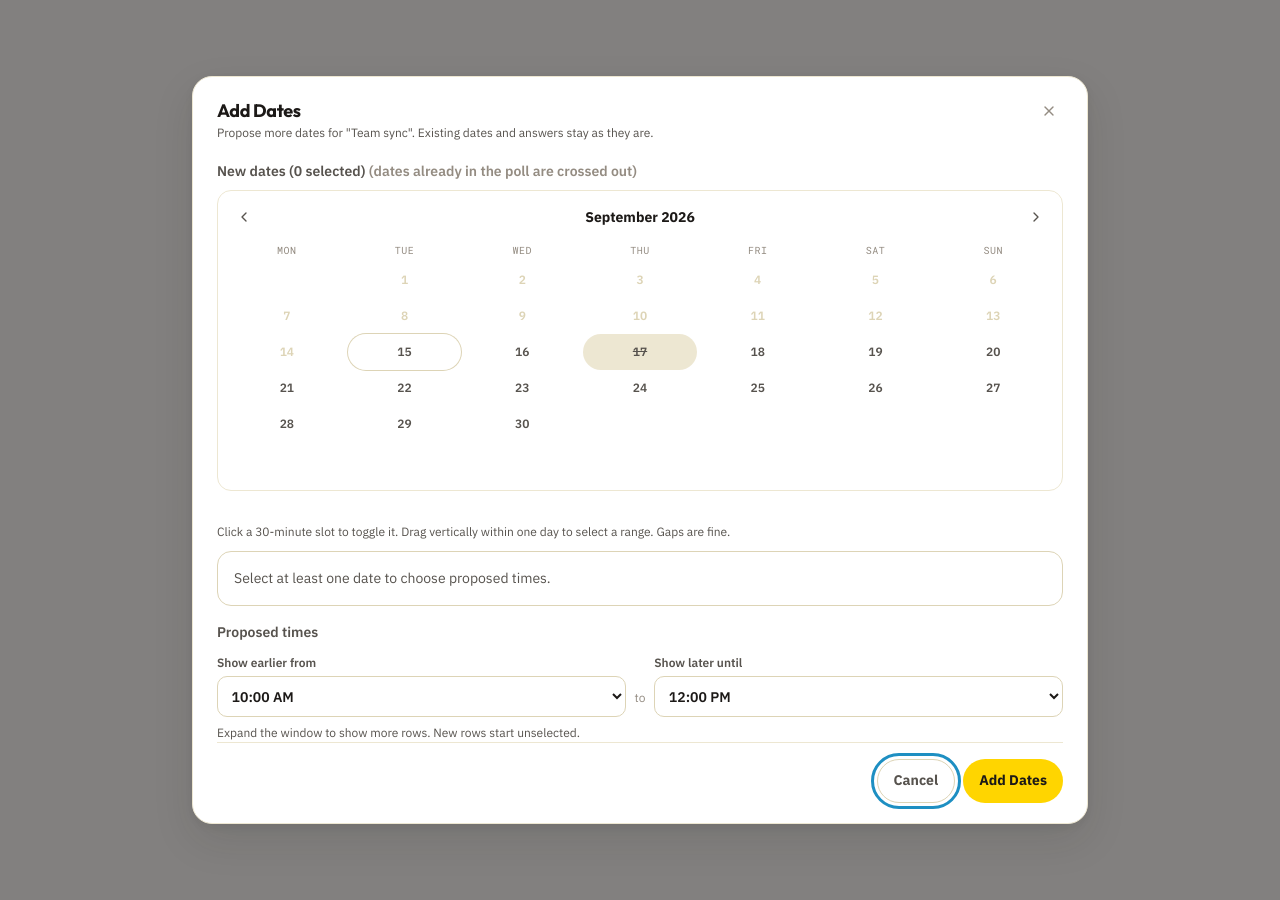
Test: ExtendPollModal › requires a new date and shows server errors inline
The image size is (1280, 900).
Click the button with id "add-dates-submit-btn": click(1013, 781) [963, 759, 1063, 803]
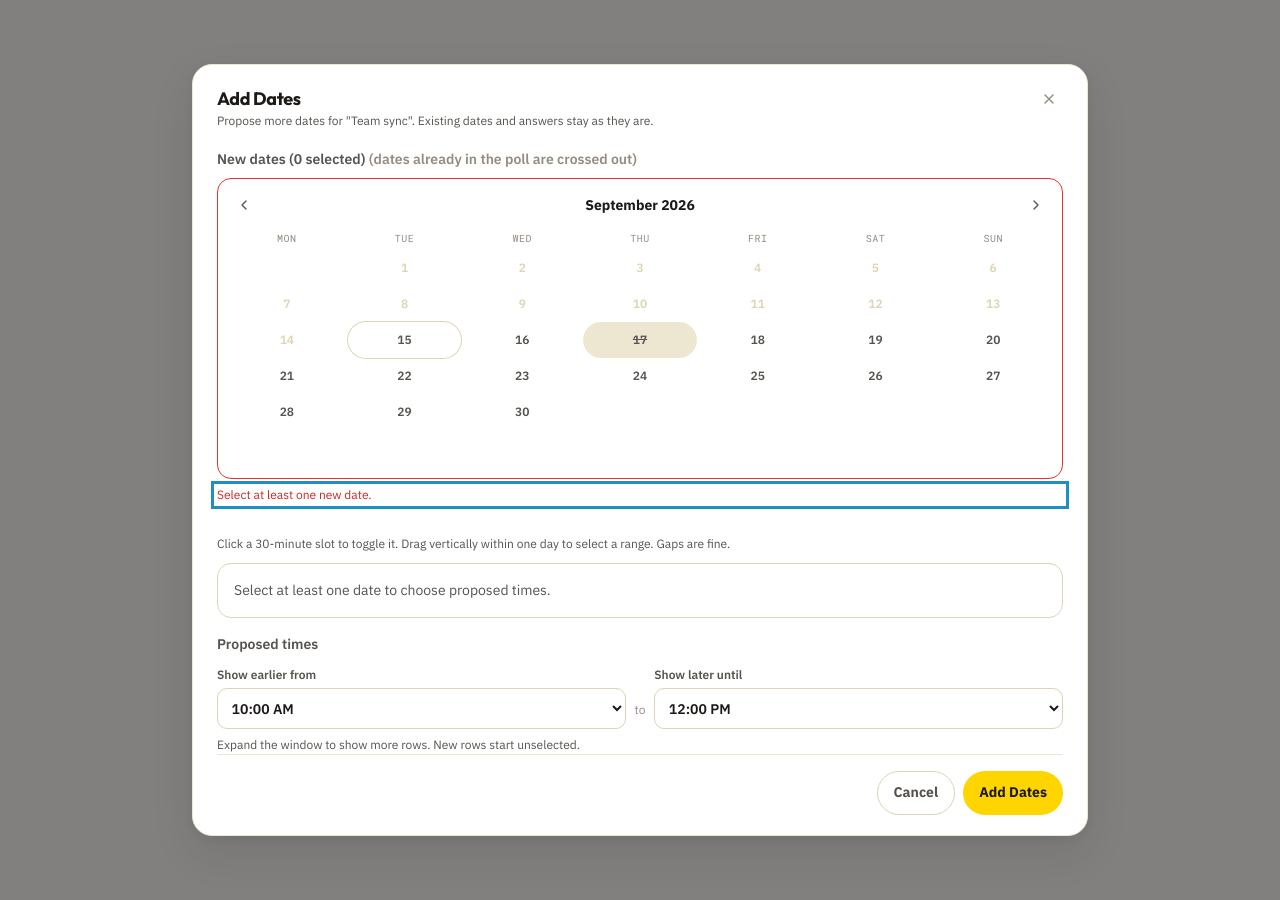
Result: the text "Select at least one new date." is shown at [217, 487, 372, 502]
Click the button "19": click(875, 340) [819, 322, 932, 358]
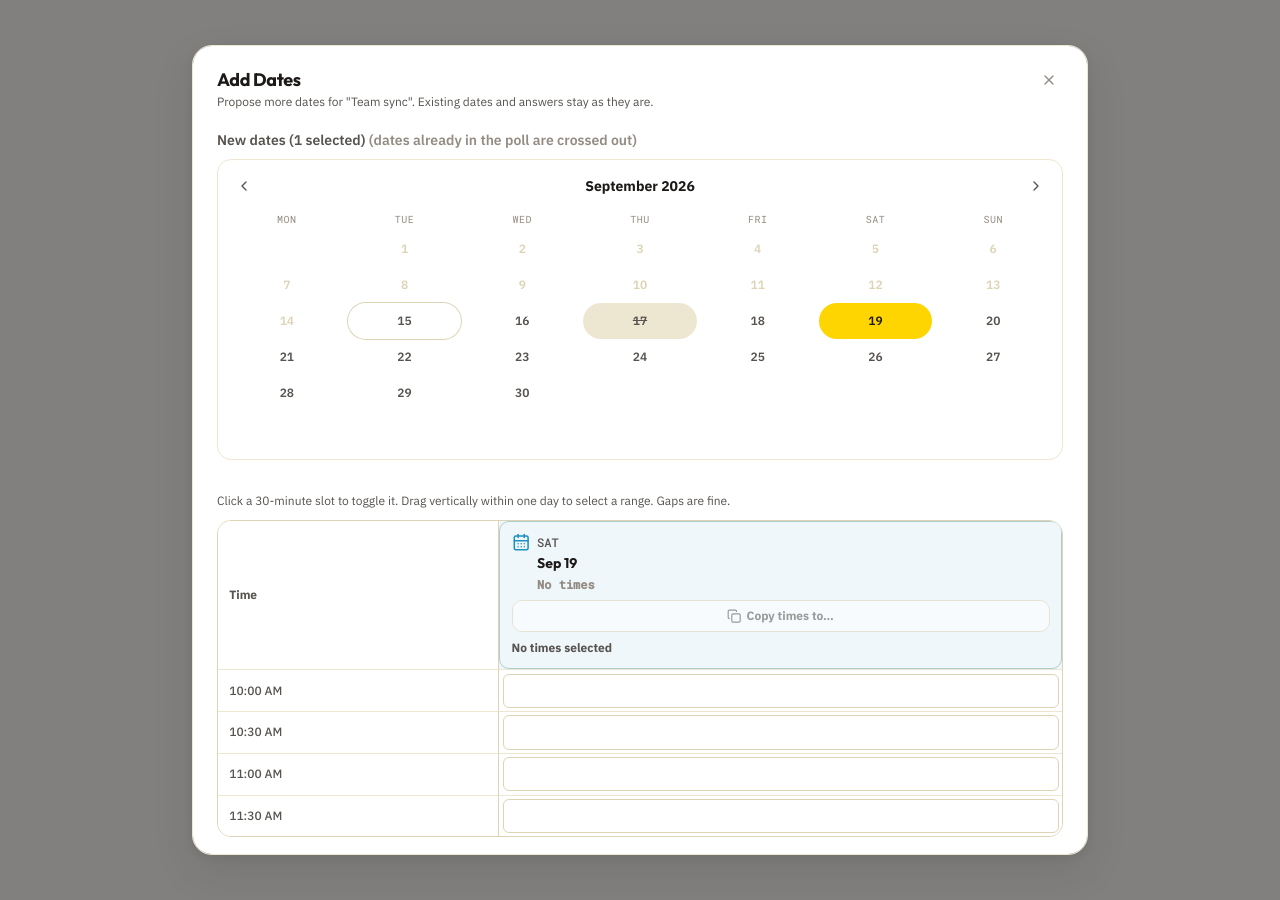
Click the button named "Saturday, September 19, 10:00 AM – 10:30 AM: not proposed": click(781, 691) [502, 674, 1059, 708]
(page scrolled)
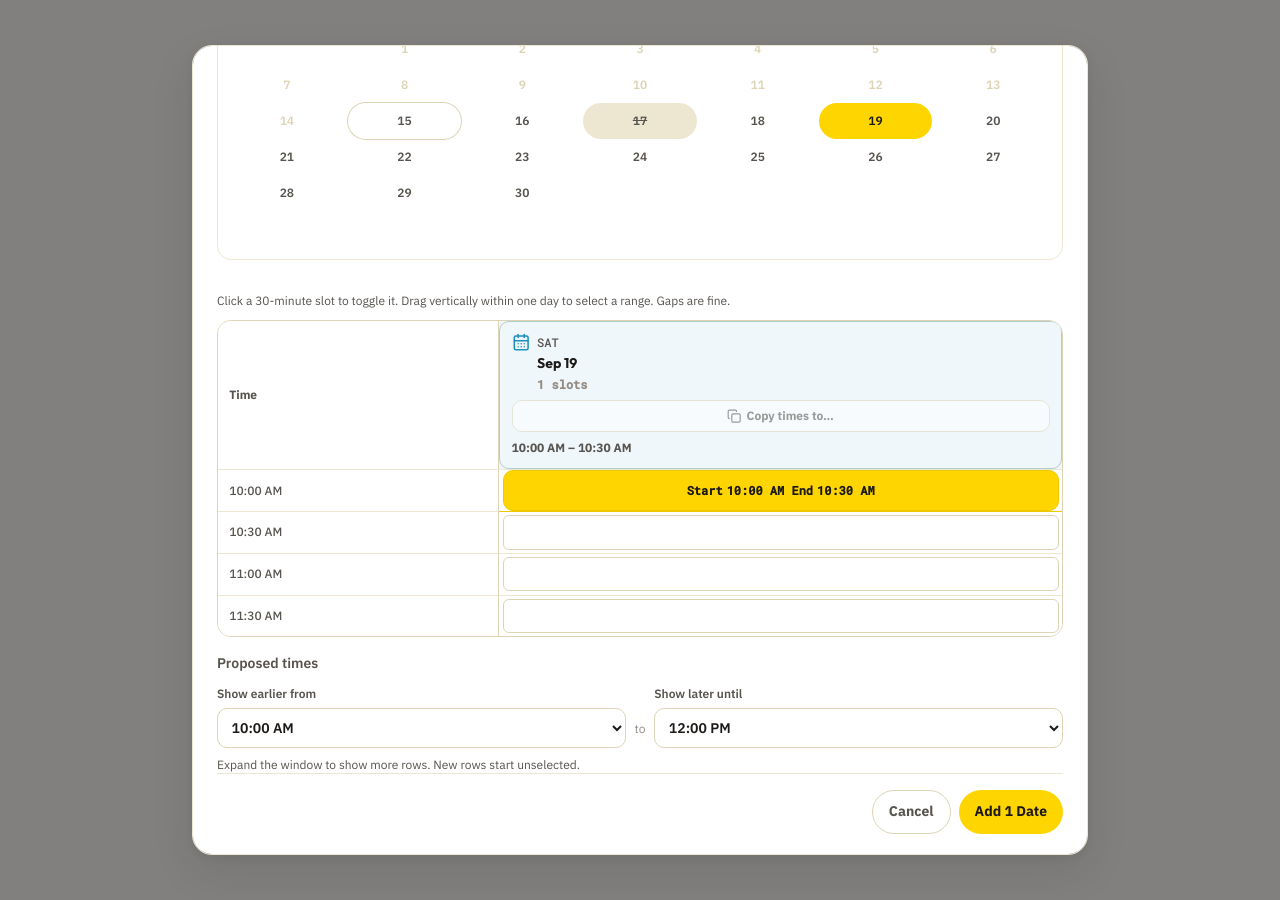
Click the button with id "add-dates-submit-btn": click(1011, 812) [959, 790, 1063, 834]
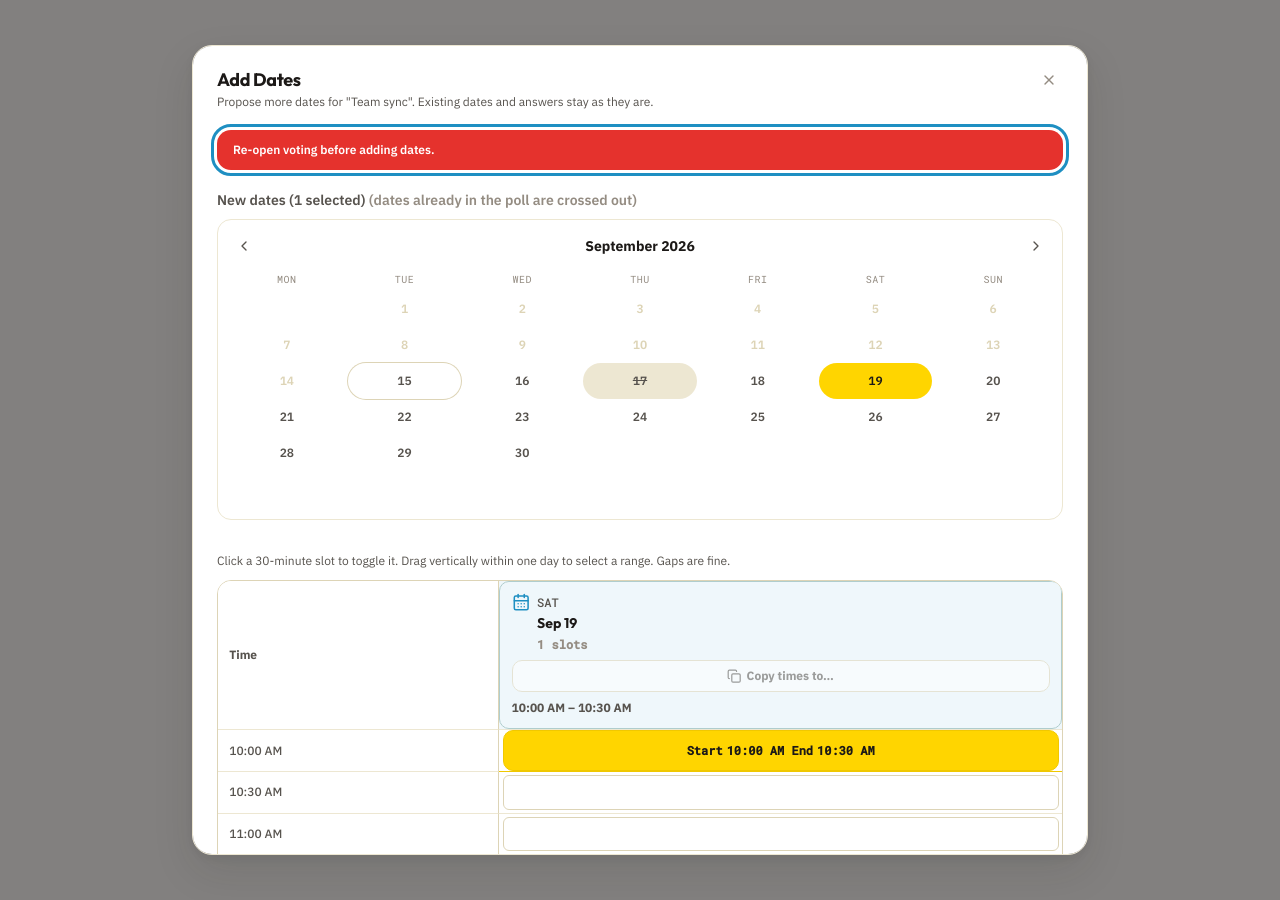
Result: the text "Re-open voting before adding dates." is shown at [217, 130, 1063, 170]
